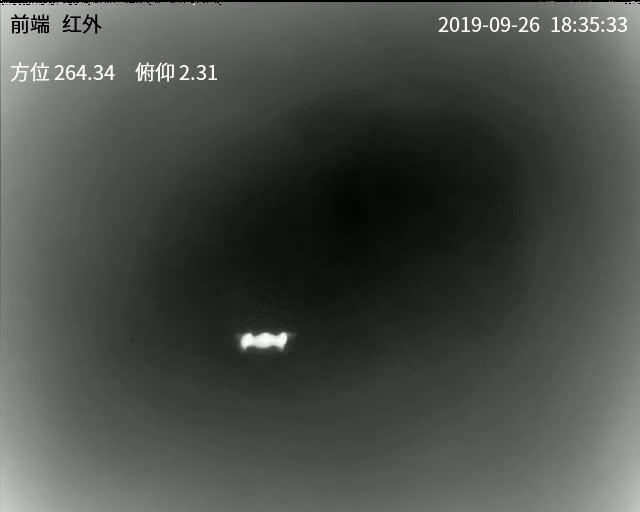DRONE: (239, 331, 289, 351)
